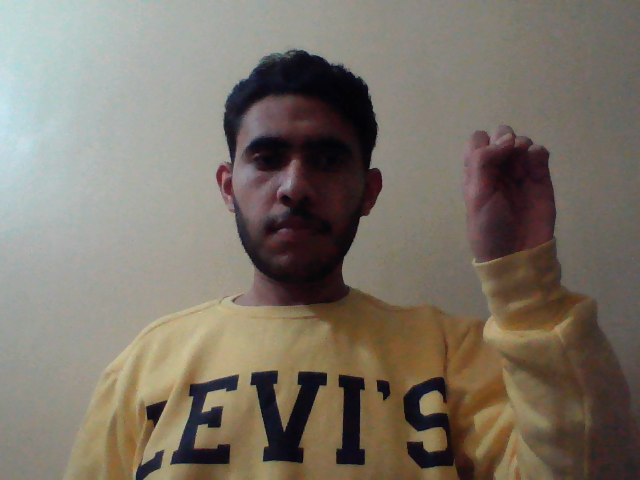S: (458, 117, 566, 278)
